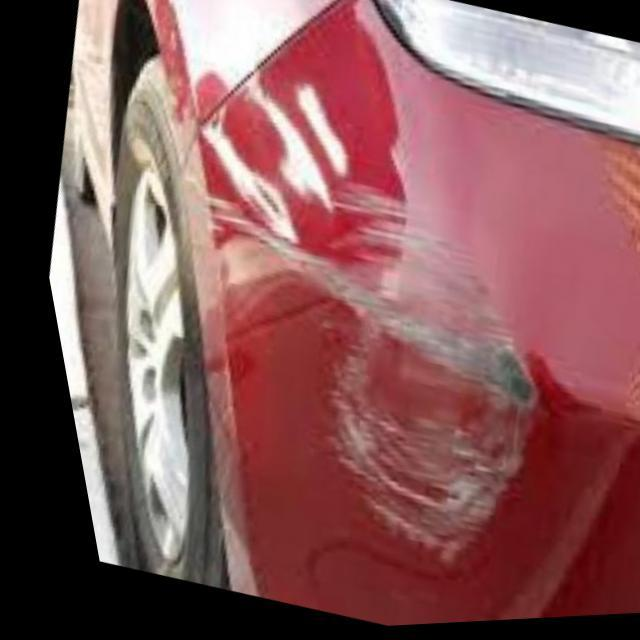rub: (308, 180, 518, 574)
